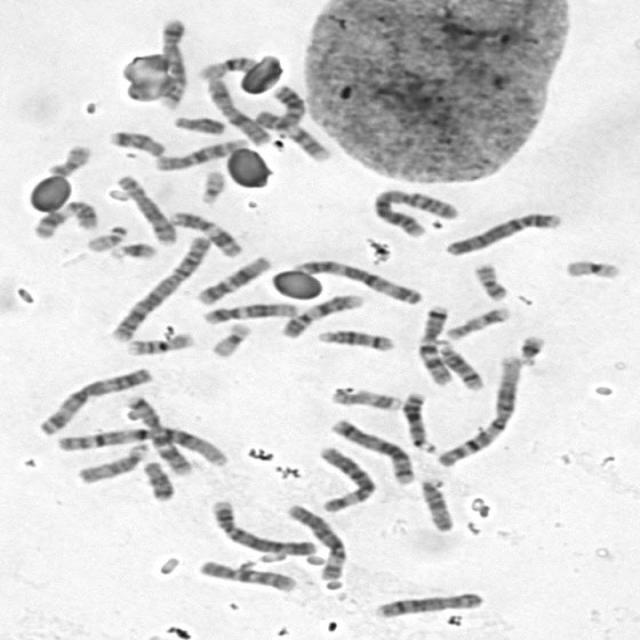A1: (431, 351, 527, 469), (54, 422, 233, 467)
A2: (105, 231, 214, 343), (368, 184, 463, 238)
A3: (34, 362, 157, 436), (288, 254, 425, 306)
B4: (207, 495, 319, 556), (441, 207, 566, 258)
B5: (325, 414, 417, 485), (153, 14, 190, 110)
C10: (148, 133, 252, 173), (192, 556, 299, 594)
C11: (164, 207, 246, 258), (28, 196, 102, 240)
C12: (192, 251, 274, 306), (197, 298, 300, 325)
C6: (282, 500, 351, 581), (313, 441, 380, 513)
C7: (119, 389, 193, 476), (412, 301, 455, 386)
C8: (111, 170, 179, 246), (370, 588, 487, 619)
C9: (250, 106, 334, 162), (276, 289, 364, 339)
D13: (398, 387, 441, 454), (265, 82, 309, 135)
D14: (432, 338, 487, 392), (313, 325, 399, 352)
D15: (73, 438, 152, 485), (415, 474, 458, 533)
E16: (121, 328, 198, 357), (193, 51, 260, 80)
E17: (441, 302, 513, 341), (326, 383, 406, 412)
E18: (105, 126, 168, 158), (137, 456, 177, 502)
F19: (206, 318, 255, 358), (560, 255, 624, 280)
F20: (42, 140, 94, 178), (468, 258, 511, 302)
G21: (514, 330, 549, 367), (105, 238, 160, 261)
G22: (81, 221, 129, 253), (194, 167, 229, 204)
X: (202, 74, 272, 146)
Y: (169, 112, 228, 136)
